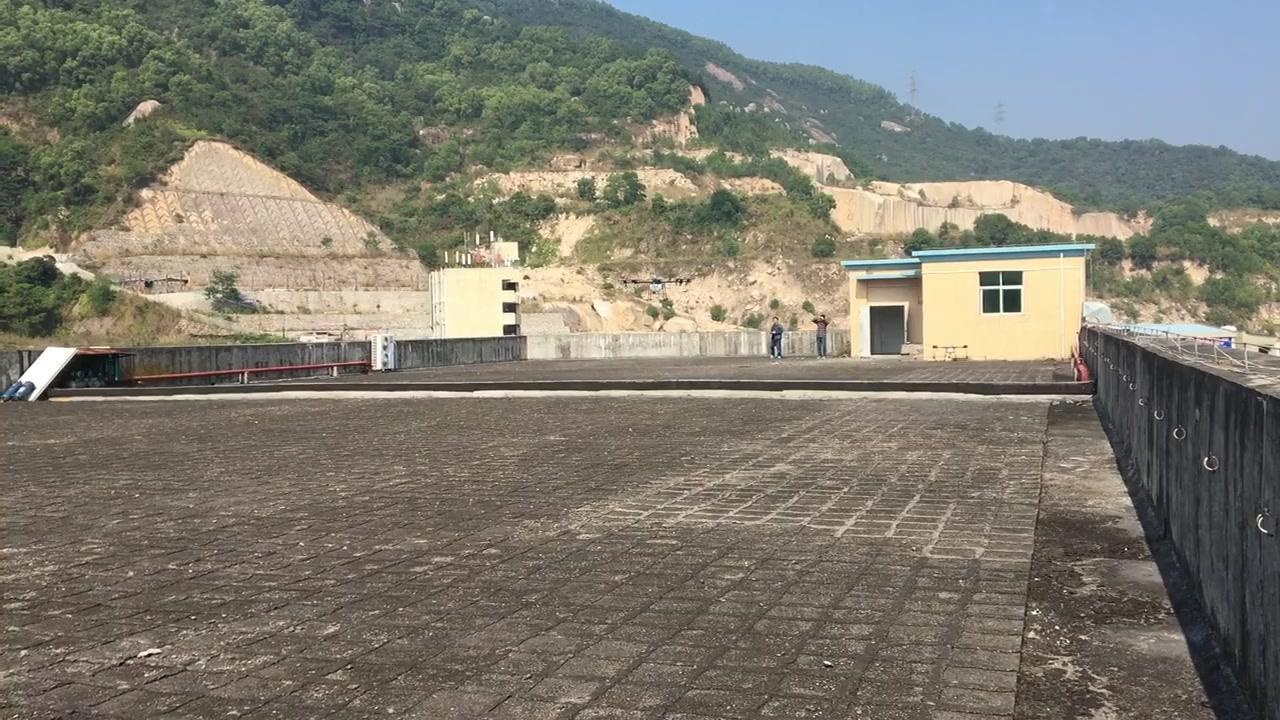UAV: (619, 279, 693, 295)
